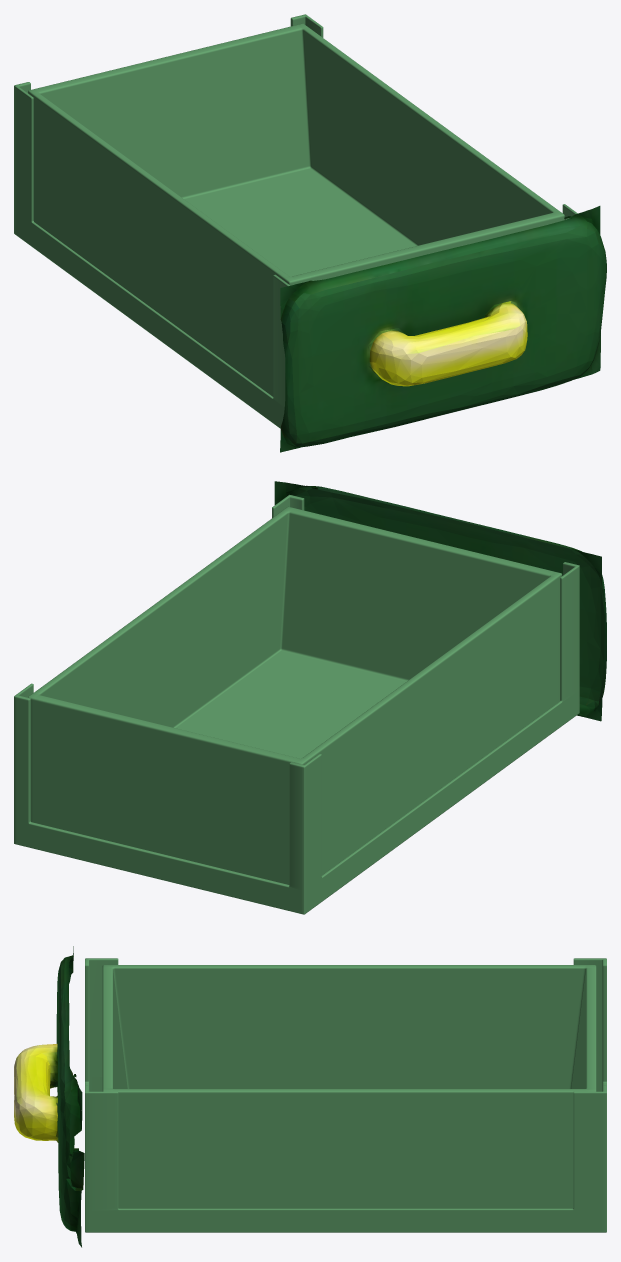
The model's file is bottom_drawer.glb.
The picture shows the model from 3 angles, top to bottom: view 1: azimuth 30°, elevation 25°; view 2: azimuth 150°, elevation 25°; view 3: azimuth 270°, elevation 25°; orthographic projection. The views are drawn at different scales.
Visible parts, largest first — view 1: prefab_drawer_body_2, source_front_cap_0; view 2: prefab_drawer_body_2, source_front_cap_0; view 3: prefab_drawer_body_2, source_front_cap_0.
Boxes of the visible parts, box(x1,y1,x2,y2) form: prefab_drawer_body_2: box(14, 14, 577, 428); source_front_cap_0: box(280, 206, 606, 452); prefab_drawer_body_2: box(14, 494, 579, 914); source_front_cap_0: box(274, 481, 606, 721); prefab_drawer_body_2: box(85, 958, 606, 1232); source_front_cap_0: box(14, 946, 84, 1247).
Size of the model in its own units: 0.1837 by 0.0894 by 0.3086.
2 materials, 1 textured.
